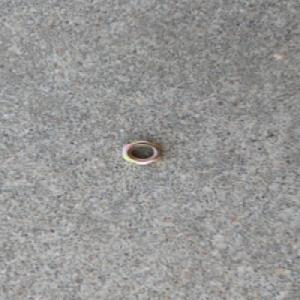Nut: (120, 139, 163, 165)
